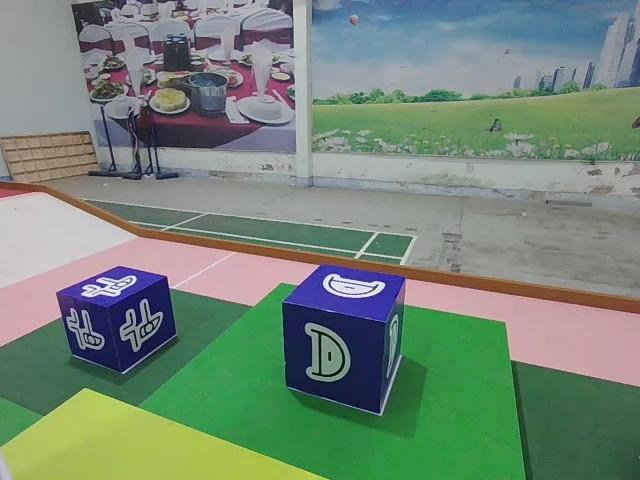R2 Real Blue: (284, 262, 407, 415), (57, 268, 180, 377)
